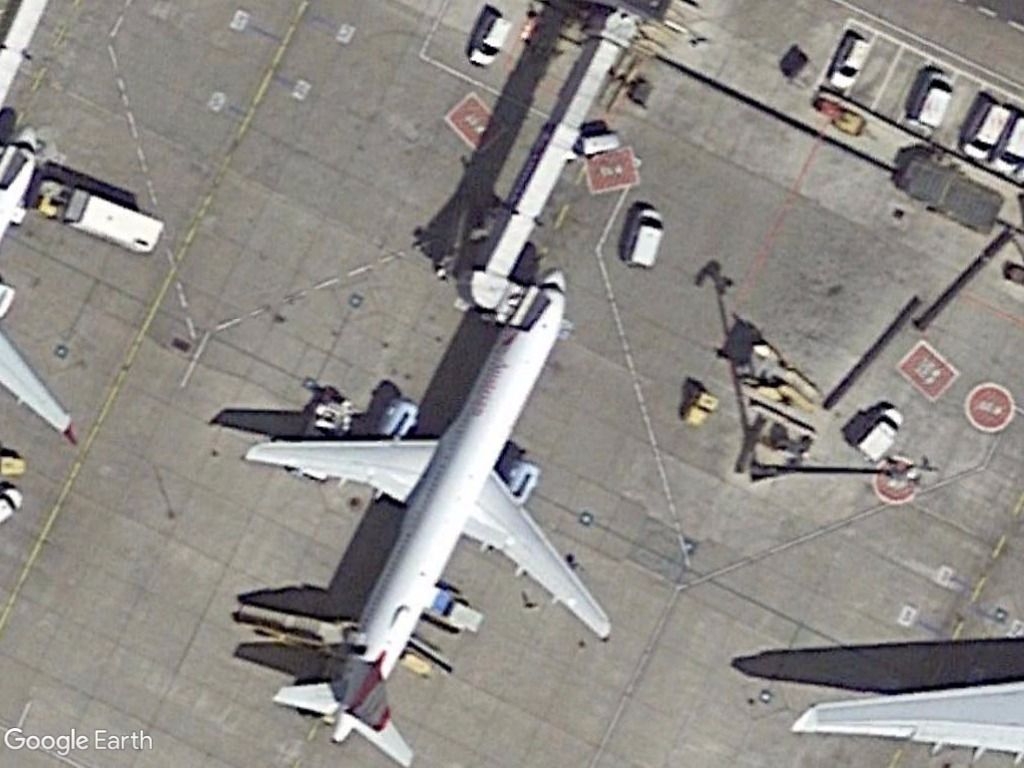airliner: (236, 255, 620, 768)
stairtruck: (234, 598, 347, 664)
van: (958, 95, 1014, 160), (907, 67, 960, 134), (851, 404, 907, 464), (463, 9, 515, 71), (619, 206, 666, 270), (826, 32, 873, 93)
